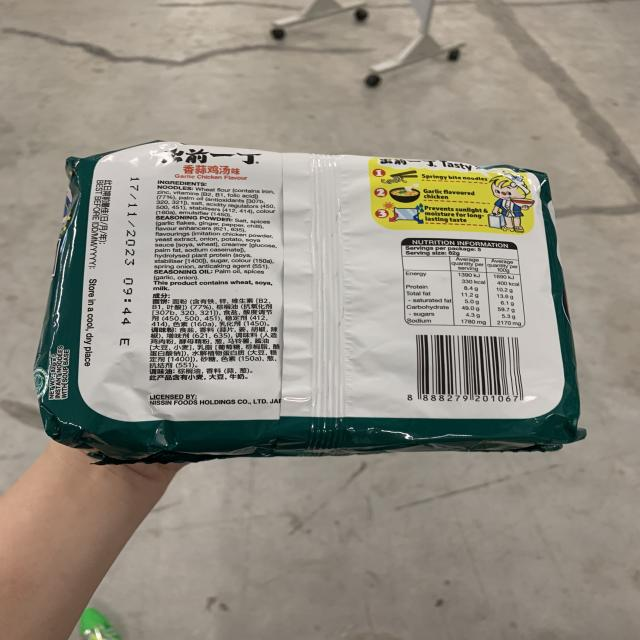object_name: (63, 152, 563, 450)
